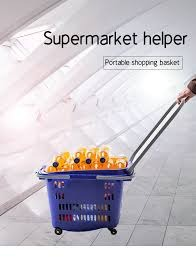with_basket: (33, 111, 175, 235)
